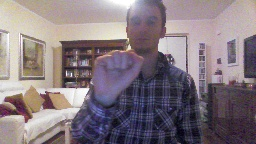Pugno: (91, 48, 146, 104)
